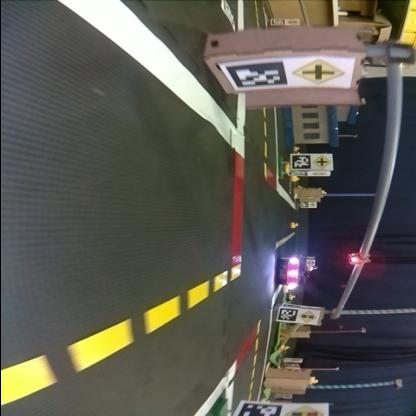Duckie: (290, 223, 298, 229)
Duckiebot: (278, 258, 305, 288)
Intersection sign: (294, 58, 344, 86), (312, 155, 330, 169)
QR code: (224, 62, 288, 90), (237, 401, 275, 415), (276, 308, 298, 322), (292, 158, 310, 170)
Signal sign: (283, 405, 326, 415), (302, 310, 320, 324)
Traffic light: (348, 254, 370, 266)
